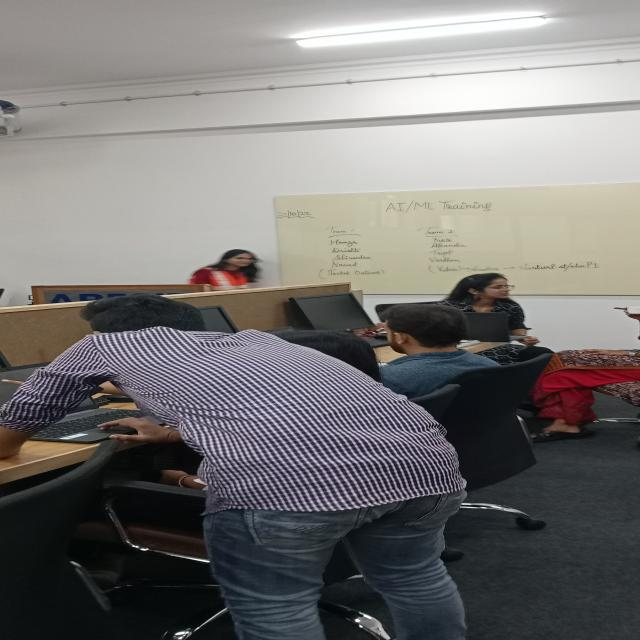unsafe: (0, 293, 464, 550)
